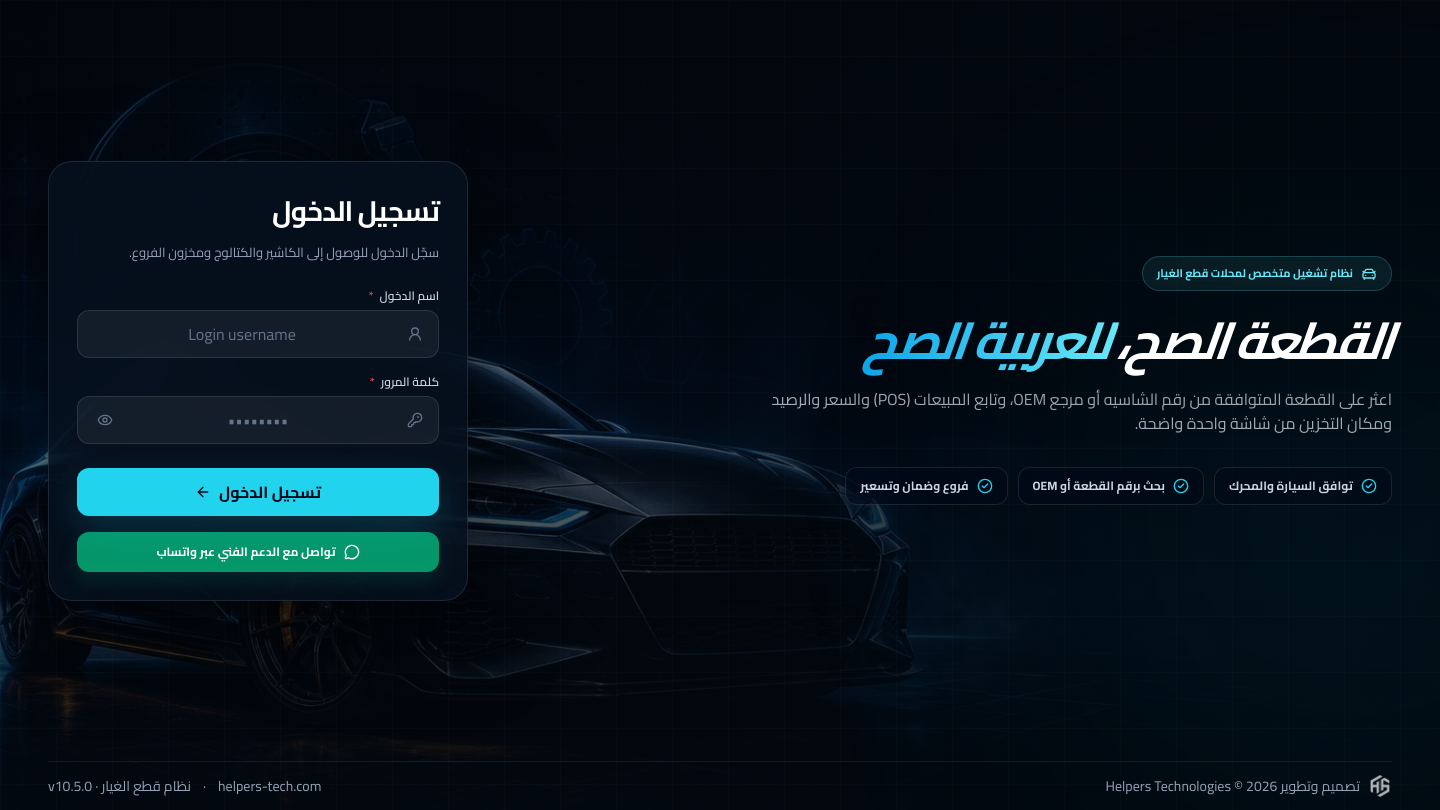
it: LoginPage — TC-COMP-LOGIN › TC-COMP-LOGIN-004 — rate_limited response disables the submit button
Type "owner" into the field with placeholder "Login username" at (258, 334), box [77, 310, 439, 358]
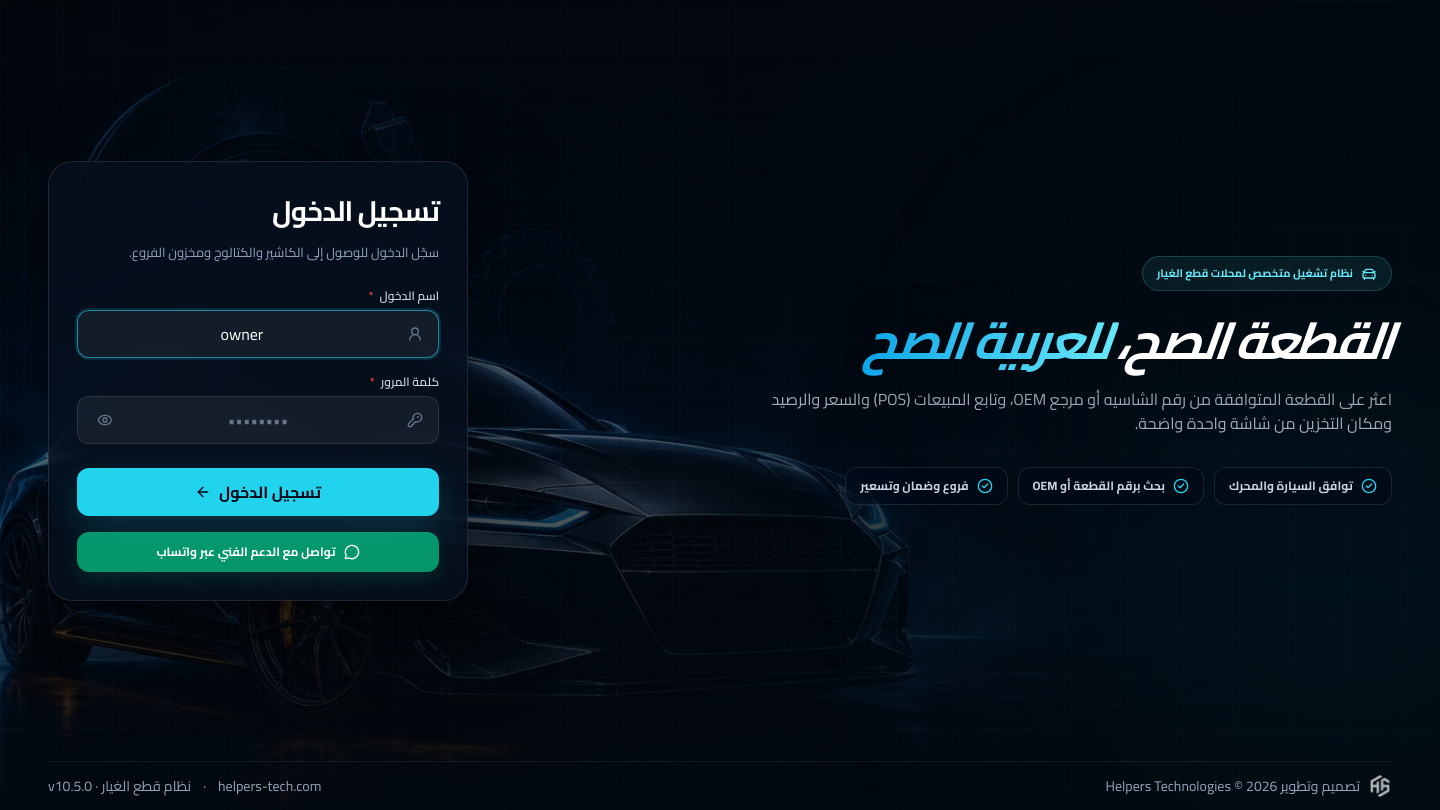
Type "WrongPass" into the password field with placeholder "••••••••" at (258, 420), box [77, 396, 439, 444]
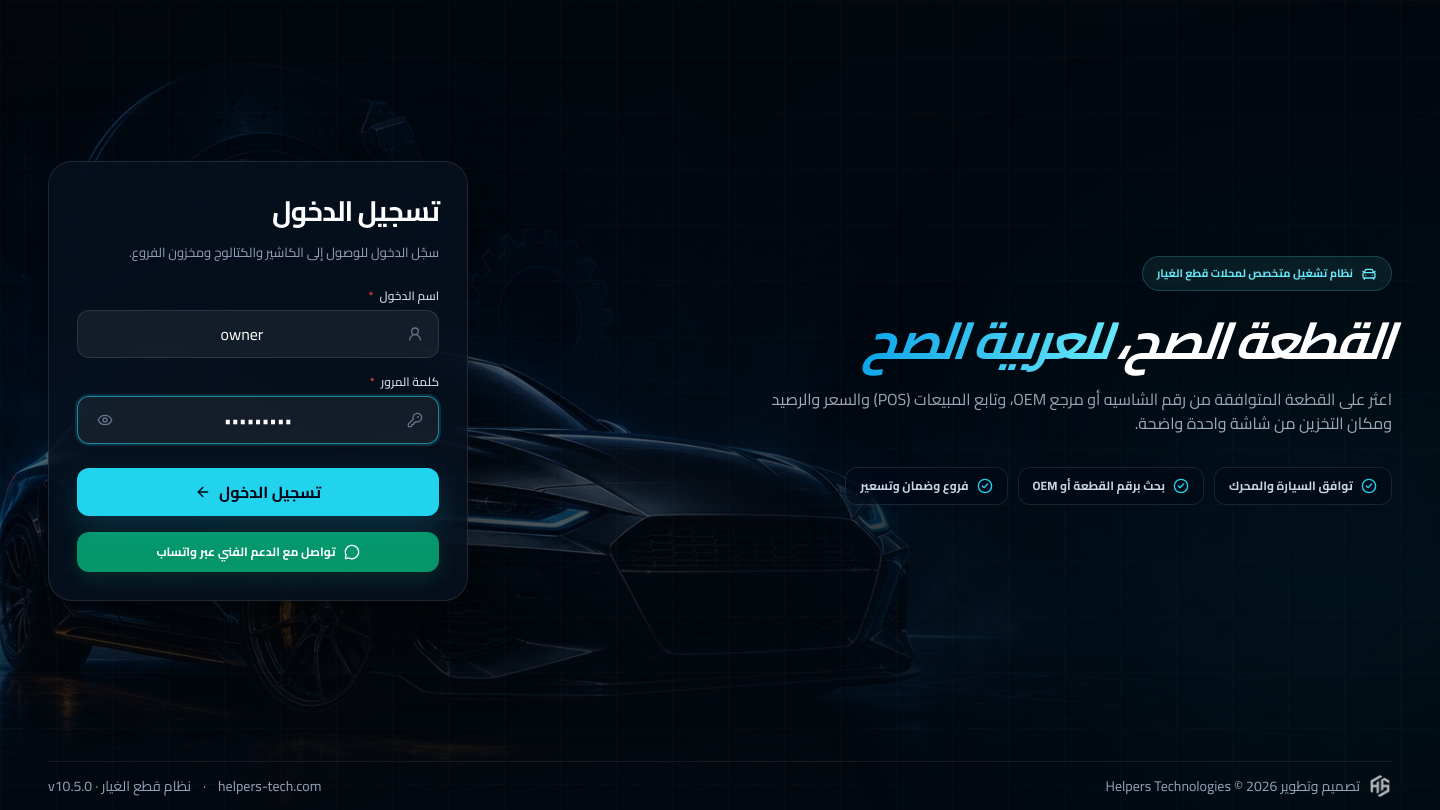
# Click using the real element since the button text will change after submit.
Click the button "تسجيل الدخول" at (258, 492), box [77, 468, 439, 516]
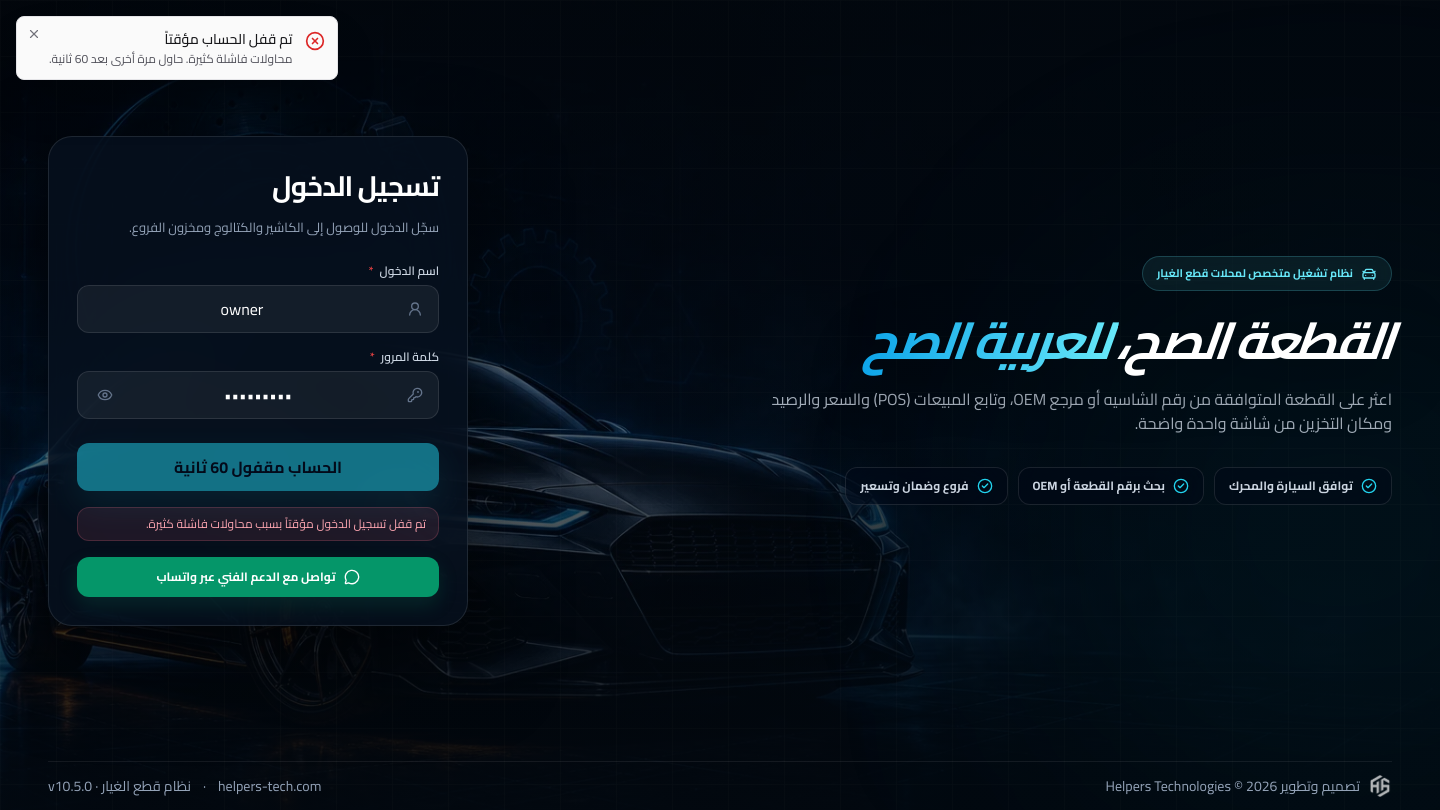
Expected: the button "الحساب مقفول 60 ثانية" is disabled, [77, 442, 439, 490]
